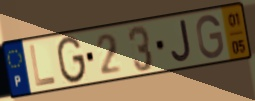2: (95, 31, 123, 77)
3: (128, 24, 154, 74)
G: (56, 35, 88, 85), (195, 13, 226, 60)
J: (170, 18, 193, 65)
L: (28, 43, 58, 90)
